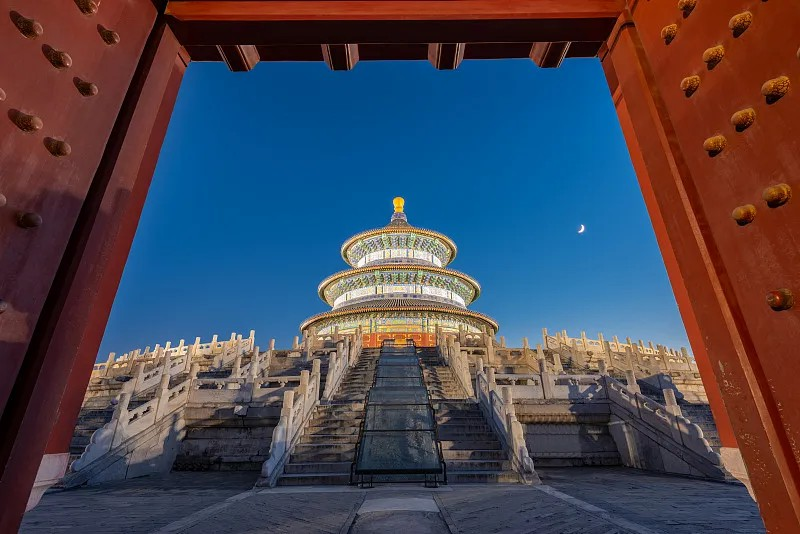Heaven: (299, 196, 498, 352)
